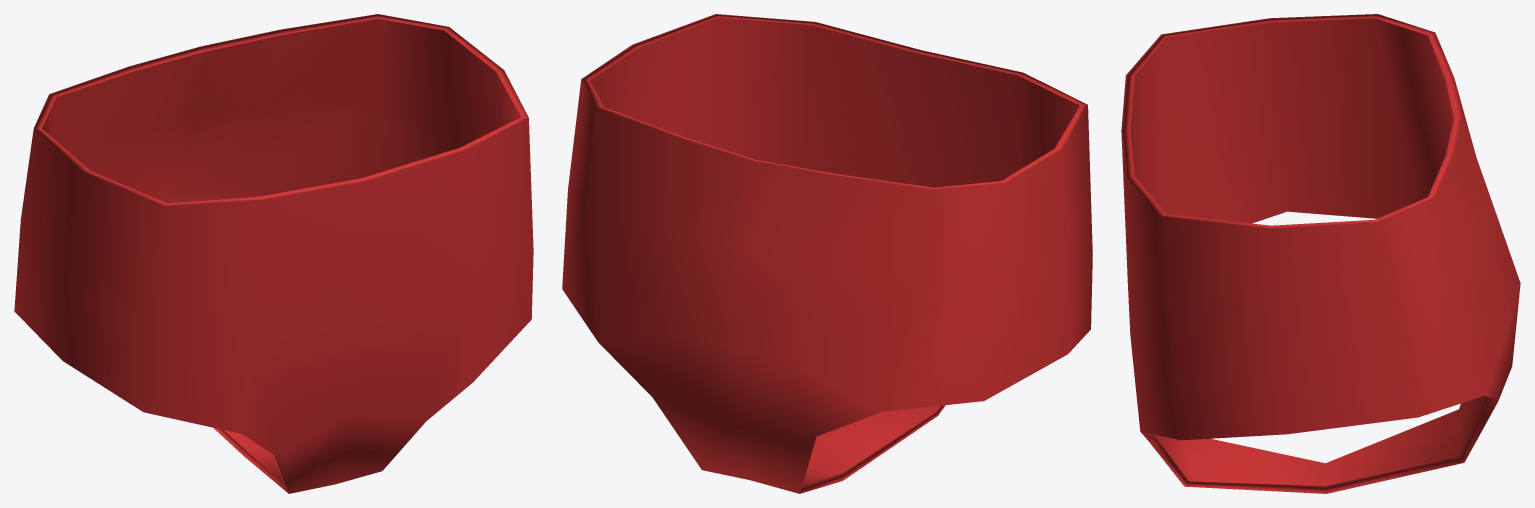
Rendered from MenV1brief_B.fbx.
The picture shows the model from 3 angles, left to right: view 1: azimuth 30°, elevation 25°; view 2: azimuth 150°, elevation 25°; view 3: azimuth 270°, elevation 25°; orthographic projection. The views are drawn at different scales.
Parts seen in each view (by area): view 1: MenV1brief_B; view 2: MenV1brief_B; view 3: MenV1brief_B.
Part boxes in pixels (x1=…): MenV1brief_B: x1=14, y1=14, x2=533, y2=493; MenV1brief_B: x1=562, y1=14, x2=1092, y2=493; MenV1brief_B: x1=1121, y1=14, x2=1520, y2=493.
Bounding box in the file's own units: 29.22 × 22.37 × 22.01.
